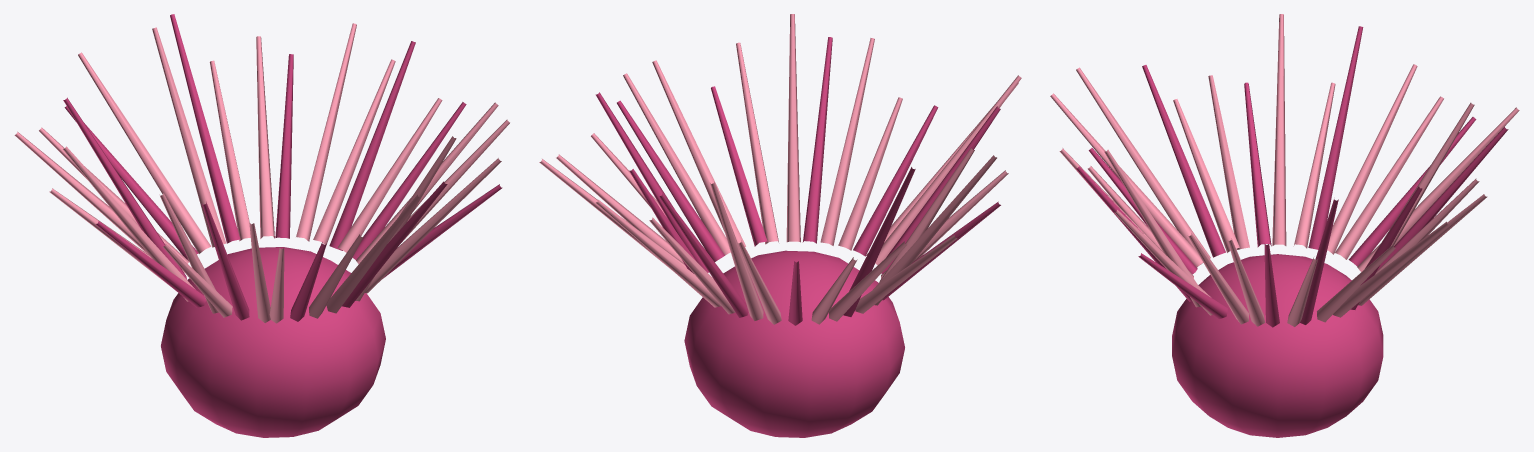
The model's file is anemone.glb.
The picture shows the model from 3 angles, left to right: view 1: azimuth 30°, elevation 25°; view 2: azimuth 150°, elevation 25°; view 3: azimuth 270°, elevation 25°; orthographic projection. The views are drawn at different scales.
Visible parts, largest first — view 1: anemone; view 2: anemone; view 3: anemone.
Boxes of the visible parts, x1,y1,x2,y2 form: anemone: (14,14,509,437); anemone: (539,14,1021,437); anemone: (1050,14,1519,437).
Bounding box in the file's own units: 0.92 × 0.7242 × 0.9528.
